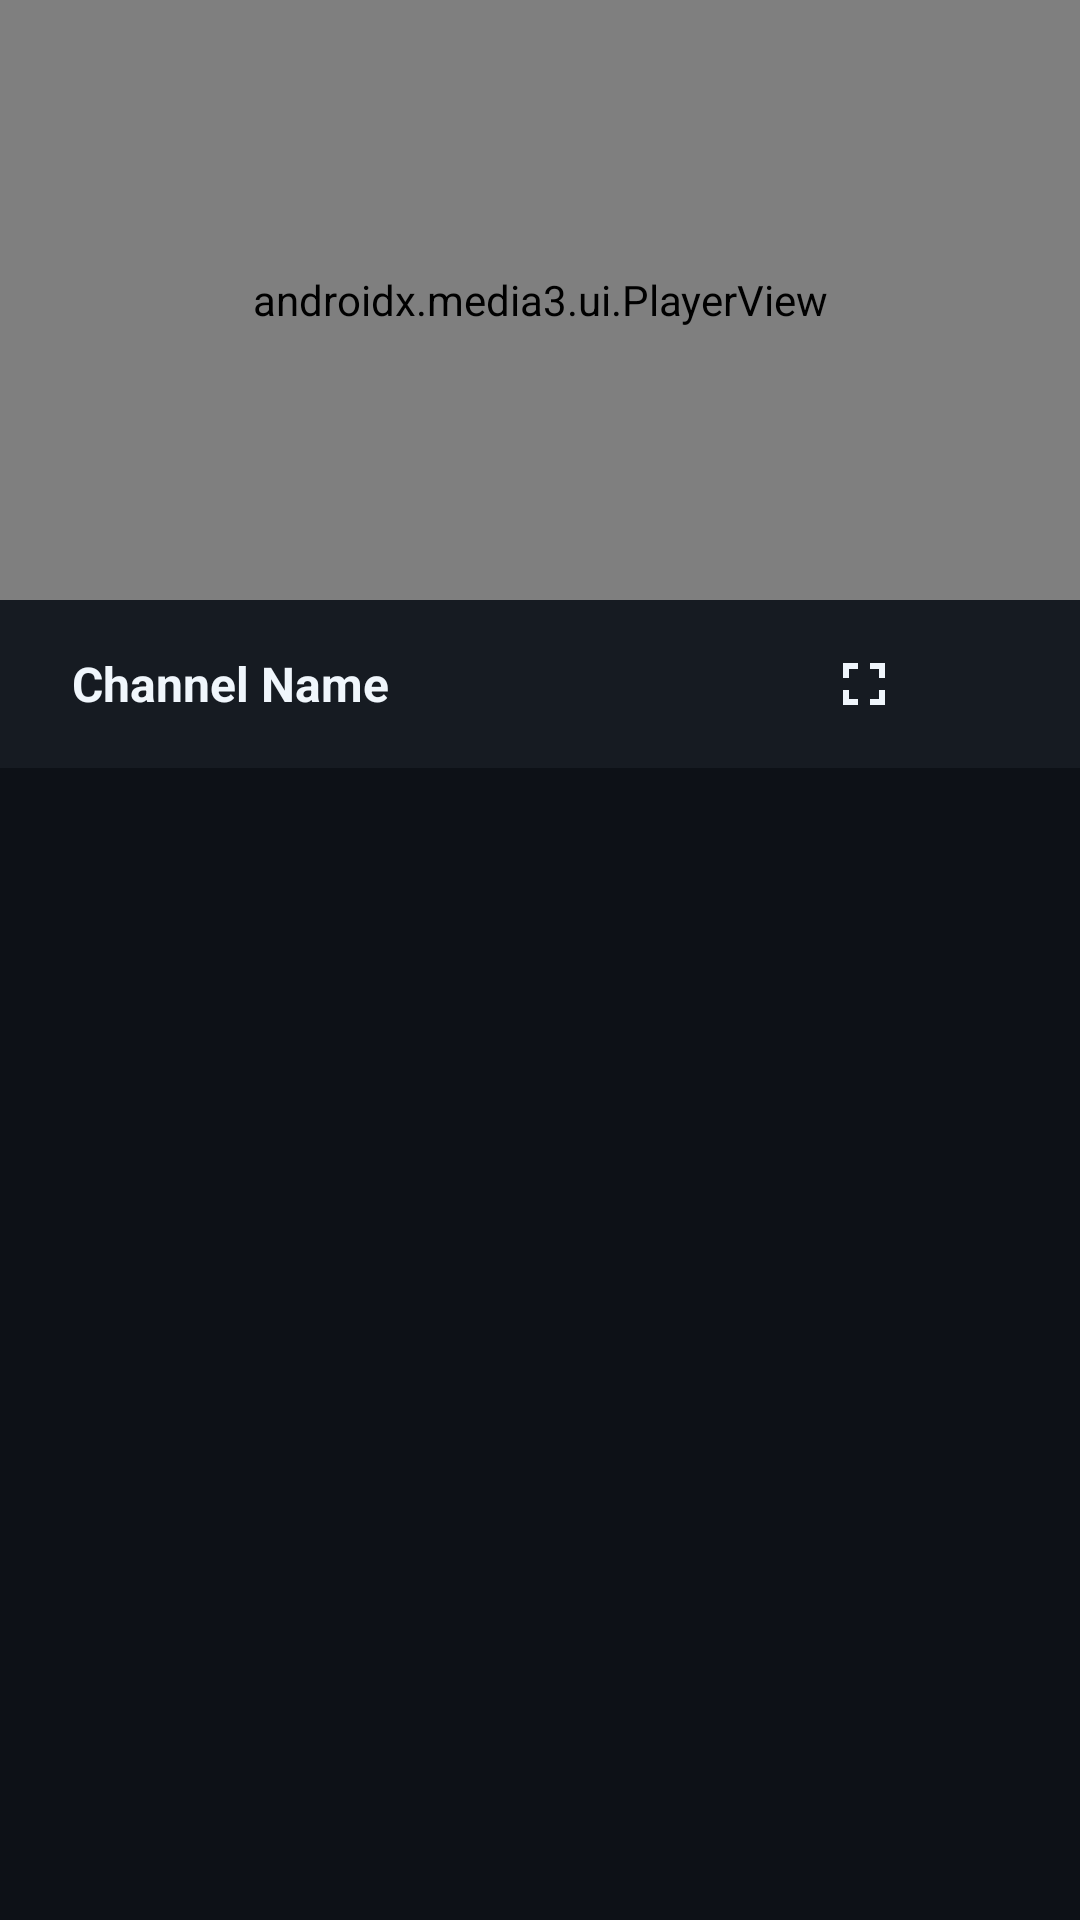

Screen size 1080px×1920px. Icon name, then its center in pixels as [x,y]:
fullscreen: [864,684]
